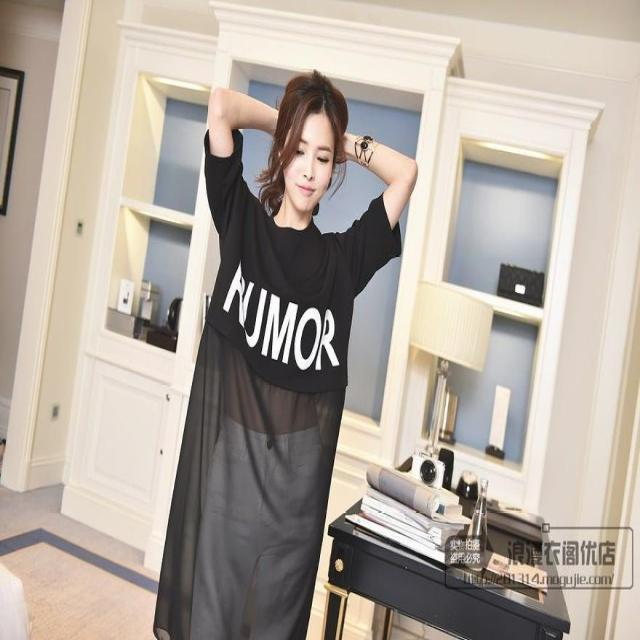short-sleeve-top: (195, 106, 411, 401)
